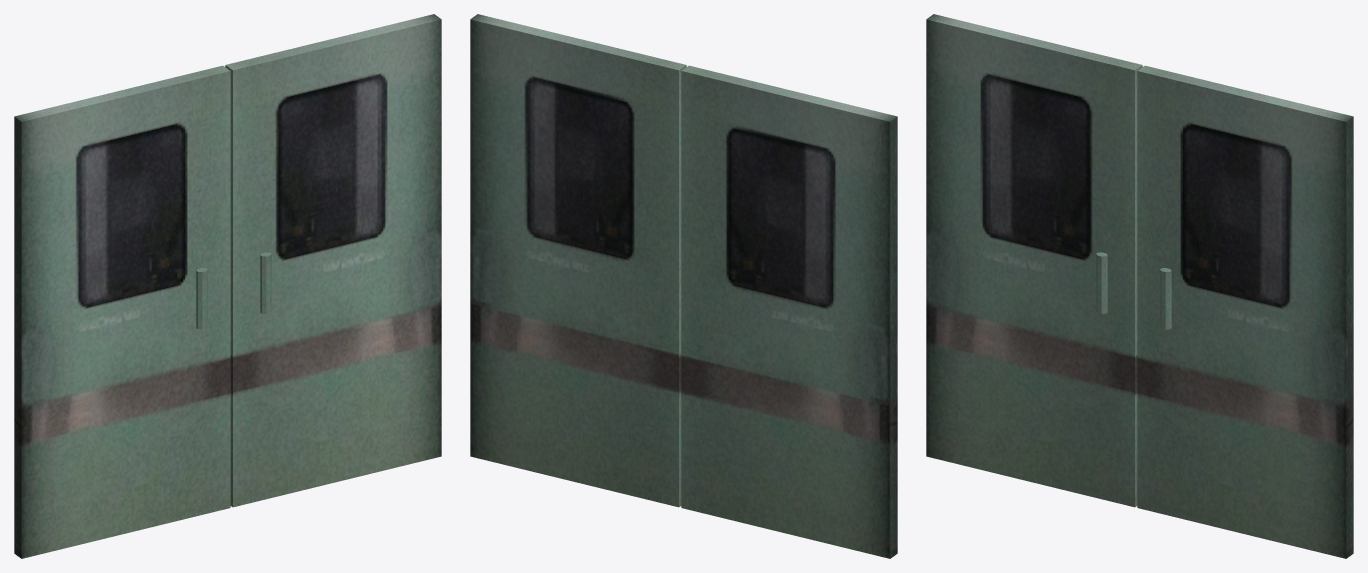
File: 07_Door_flip.glb
3 renders of one model, left to right at view 1: azimuth 30°, elevation 25°; view 2: azimuth 150°, elevation 25°; view 3: azimuth 330°, elevation 25°, orthographic.
Parts seen in each view (by area): view 1: 07_Door_Flip; view 2: 07_Door_Flip; view 3: 07_Door_Flip.
Part boxes in pixels (left/top/right/bottom): 07_Door_Flip: left=14, top=14, right=441, bottom=558; 07_Door_Flip: left=470, top=14, right=897, bottom=558; 07_Door_Flip: left=926, top=14, right=1353, bottom=558.
Size of the model in its own units: 3.02 by 3 by 0.15.
Materials: 1 (1 with a texture image).
